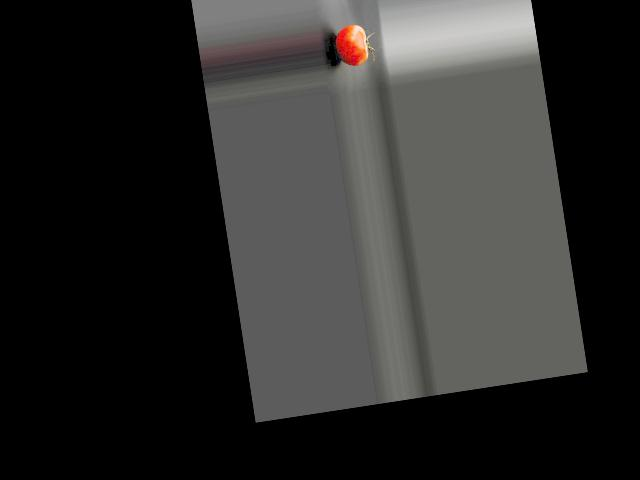tomato: (333, 22, 369, 67)
